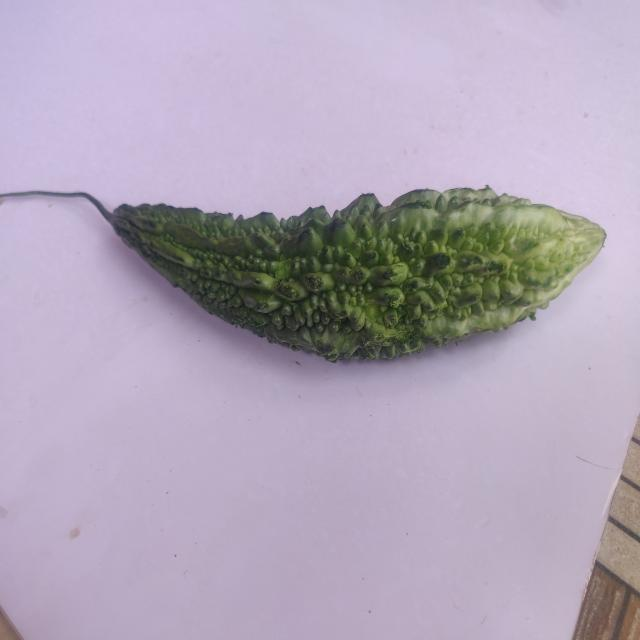Bitter Gourd: (68, 174, 614, 376)
